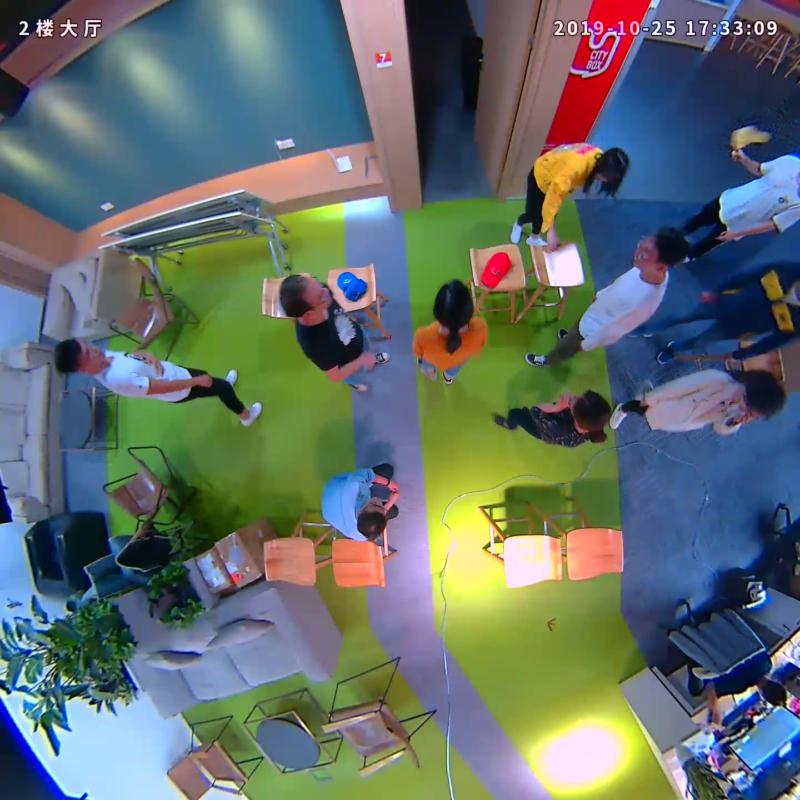head: (727, 365, 794, 434), (627, 221, 699, 282), (272, 269, 338, 324), (46, 332, 108, 387), (563, 387, 616, 438), (348, 500, 400, 546)
